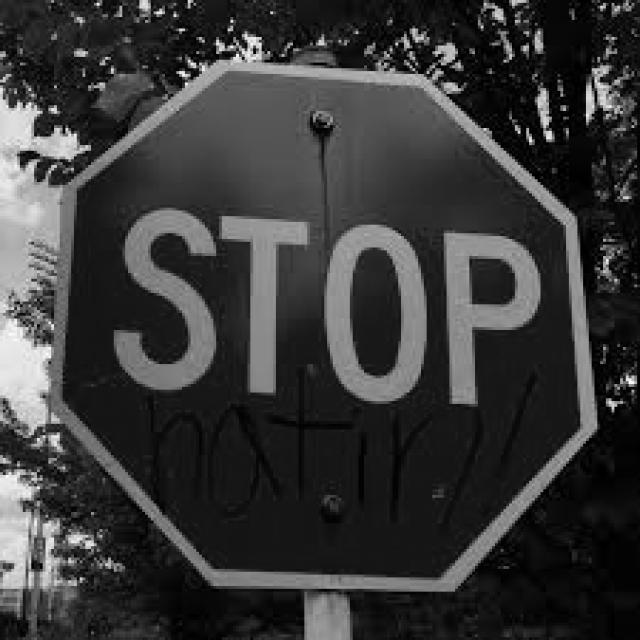stop sign: (56, 63, 596, 590)
